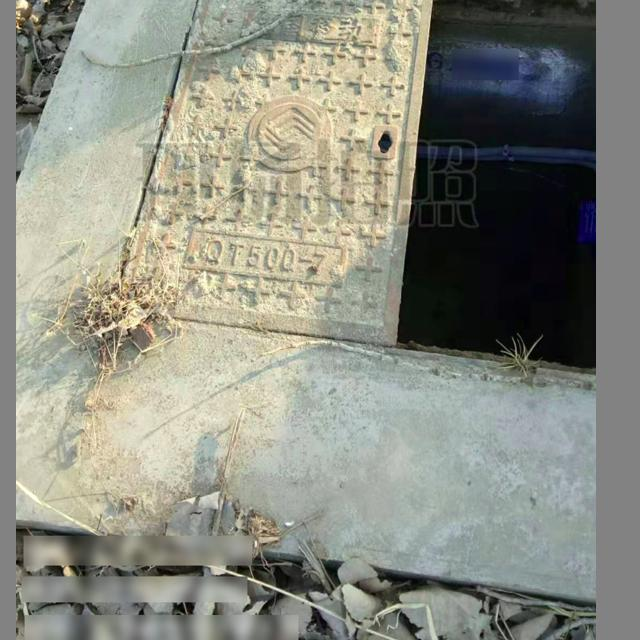lose: (103, 0, 591, 525)
